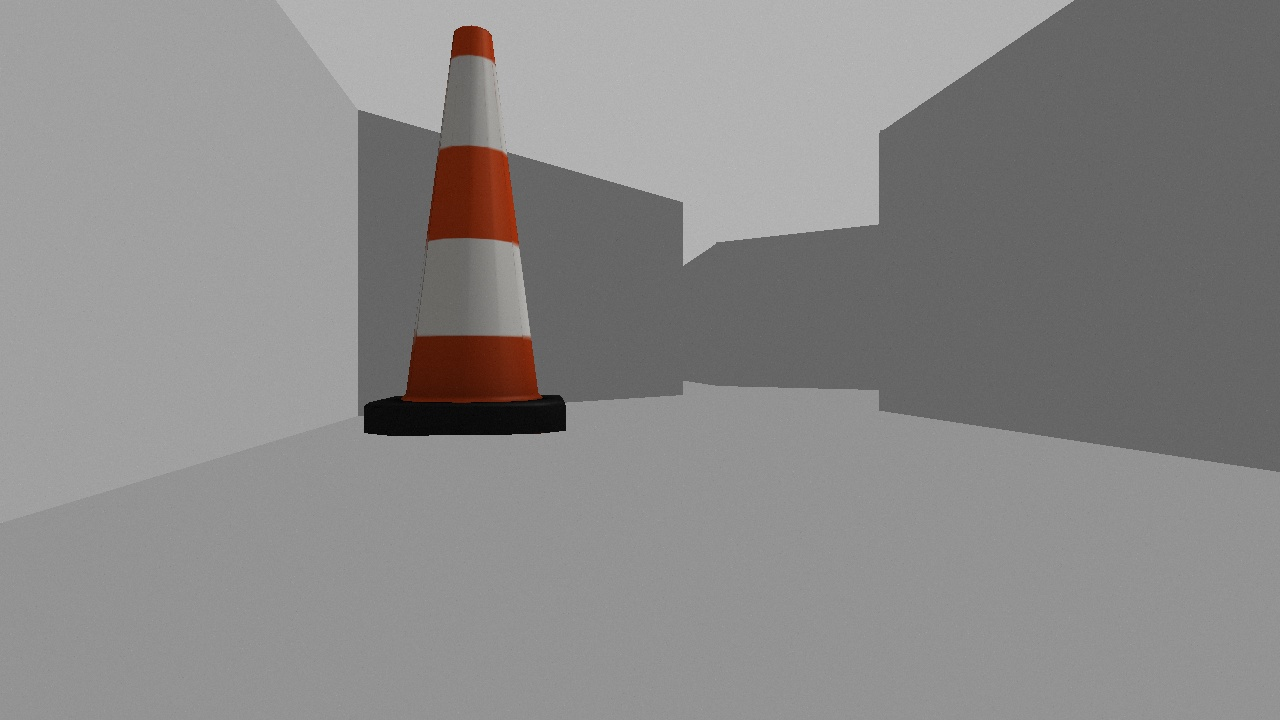barricade: (361, 24, 567, 435)
